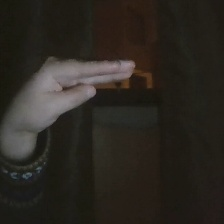H: (1, 46, 154, 146)
